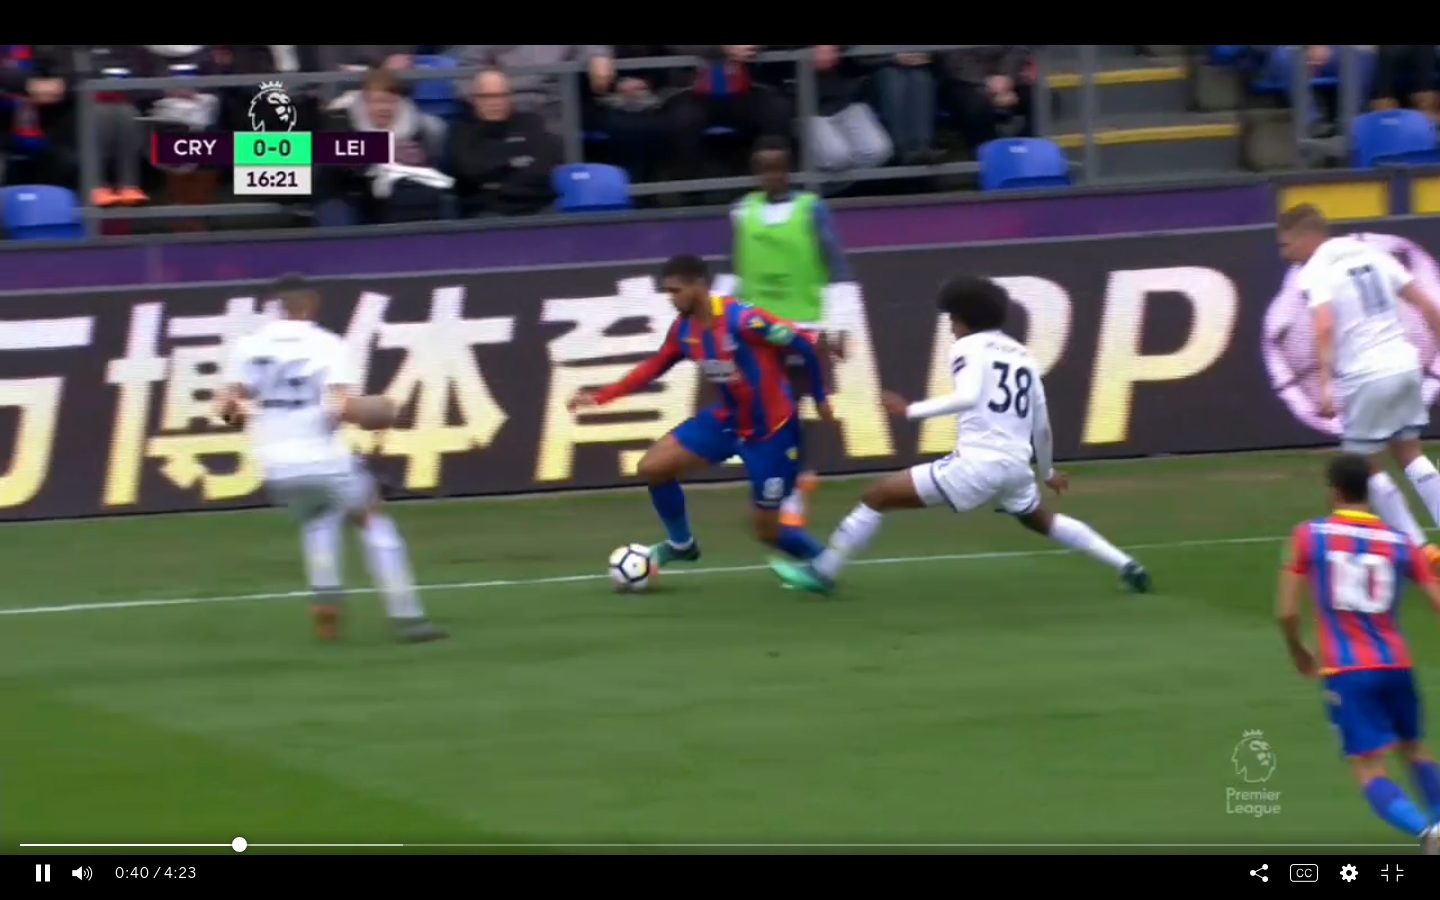soccer player: (778, 269, 1147, 603), (205, 271, 427, 662), (570, 257, 836, 569), (1268, 456, 1440, 852), (1268, 196, 1440, 551)
soccerball: (602, 540, 667, 597)
